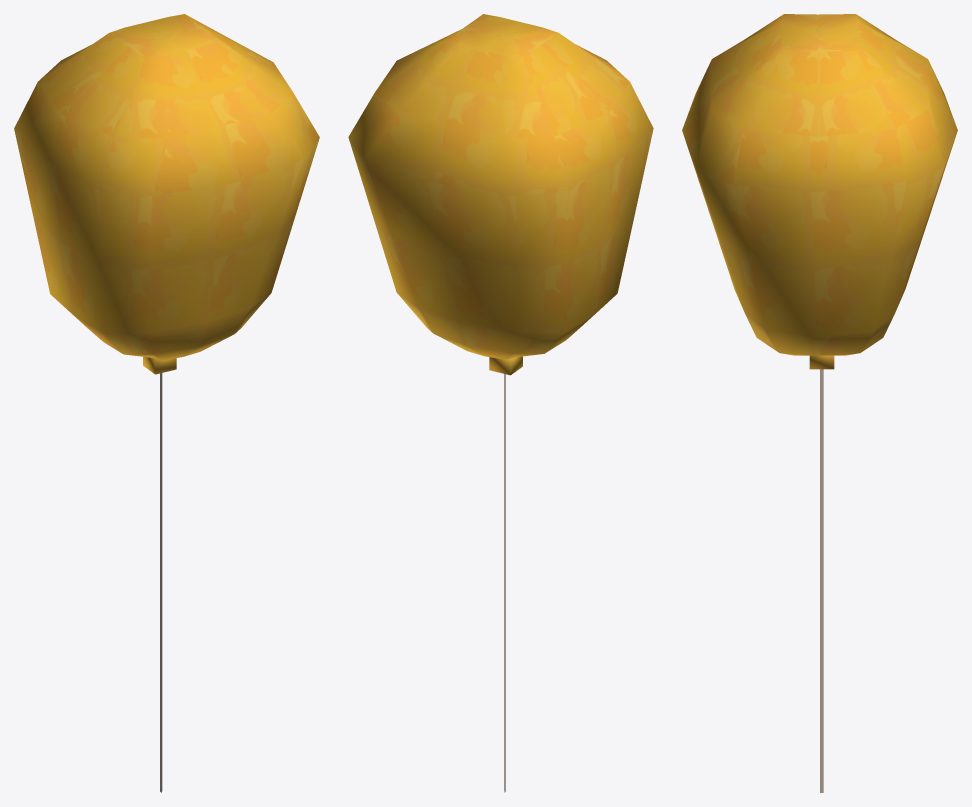
The model's file is Balloon_yellow01.fbx.
The picture shows the model from 3 angles, left to right: view 1: azimuth 30°, elevation 25°; view 2: azimuth 150°, elevation 25°; view 3: azimuth 270°, elevation 25°; orthographic projection.
Visible parts, largest first — view 1: Balloon_yellow01; view 2: Balloon_yellow01; view 3: Balloon_yellow01.
Part boxes in pixels (x1=…): Balloon_yellow01: x1=14, y1=14, x2=319, y2=792; Balloon_yellow01: x1=348, y1=14, x2=653, y2=792; Balloon_yellow01: x1=682, y1=14, x2=957, y2=792.
Bounding box in the file's own units: 0.6351 × 1.91 × 0.6273.
Materials: 2 (1 with a texture image).
